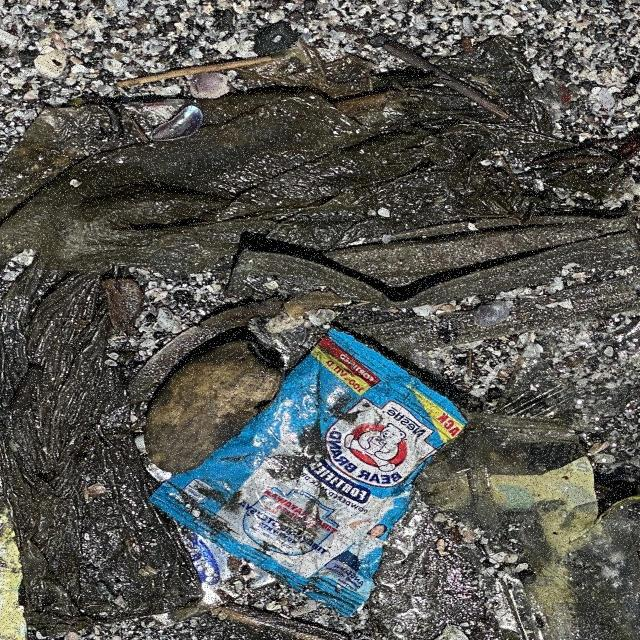plastic_waste: (150, 332, 472, 622)
